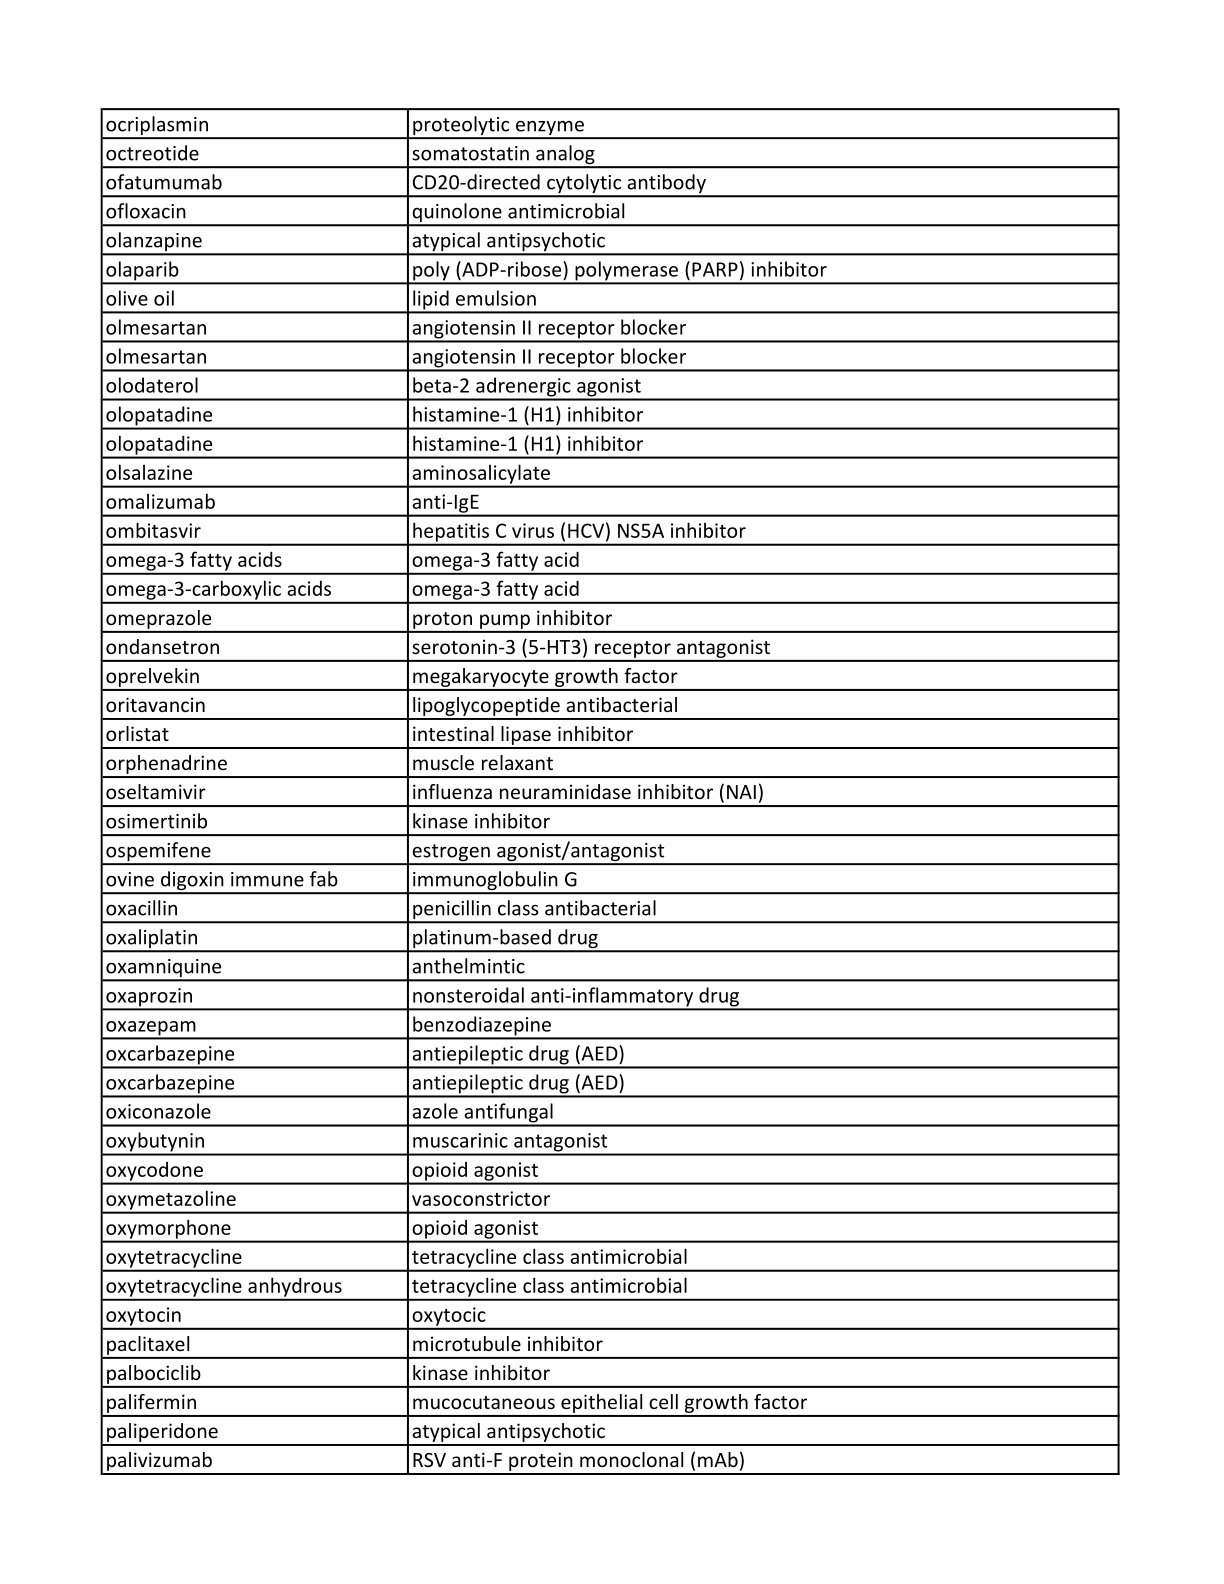full_lined: (100, 107, 1120, 1476)
